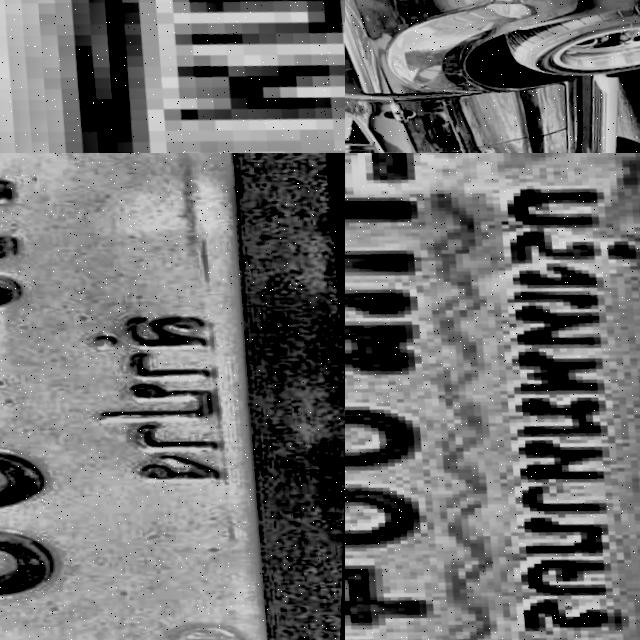license-plate: (0, 153, 345, 640), (345, 153, 640, 640), (0, 0, 345, 153)
